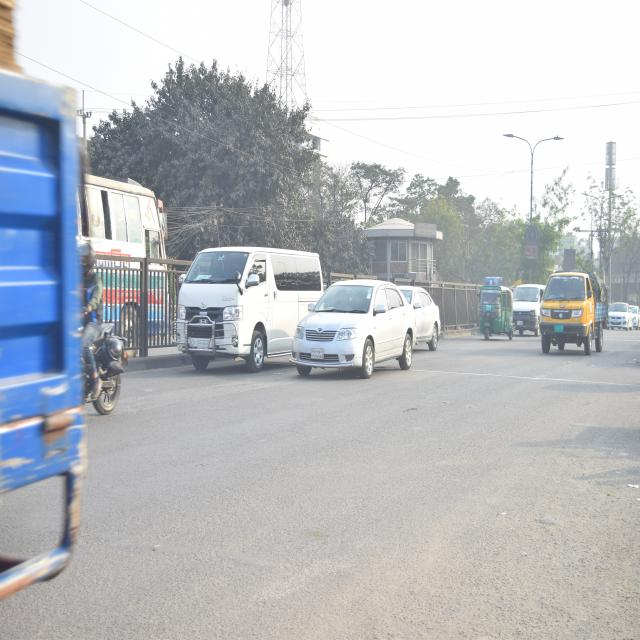car: (294, 284, 414, 381), (404, 272, 451, 356), (512, 279, 542, 337), (609, 297, 631, 327)
microbus: (178, 242, 294, 378)
motorbike: (82, 282, 133, 427)
pickup-van: (541, 266, 613, 350)
